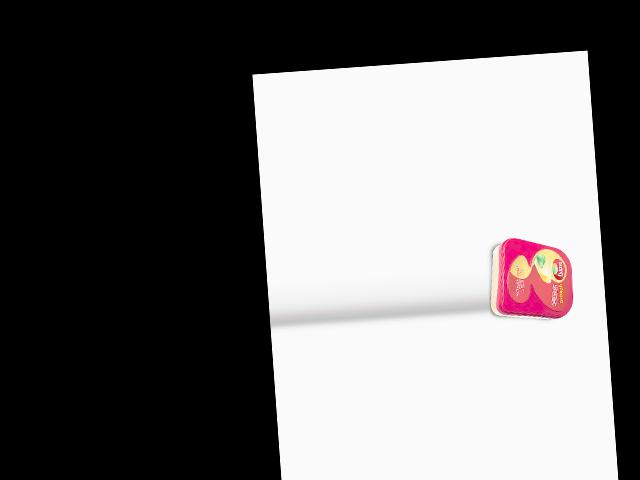cheese: (485, 233, 575, 323)
